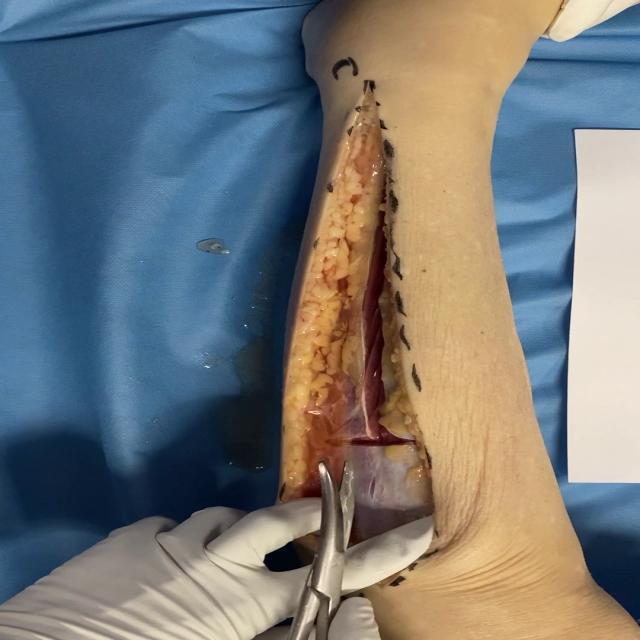scissors: (292, 457, 359, 640)
